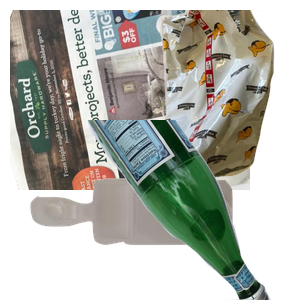glass: (75, 120, 300, 300)
paper: (10, 10, 250, 190)
plastic: (28, 176, 253, 300)
trash: (127, 10, 300, 190)
